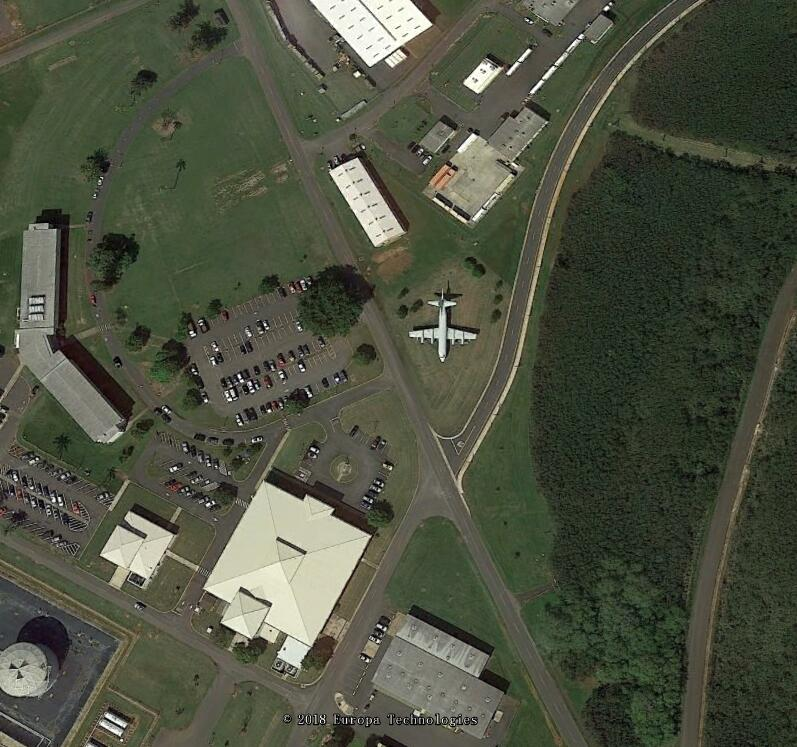A9: (411, 287, 481, 365)
